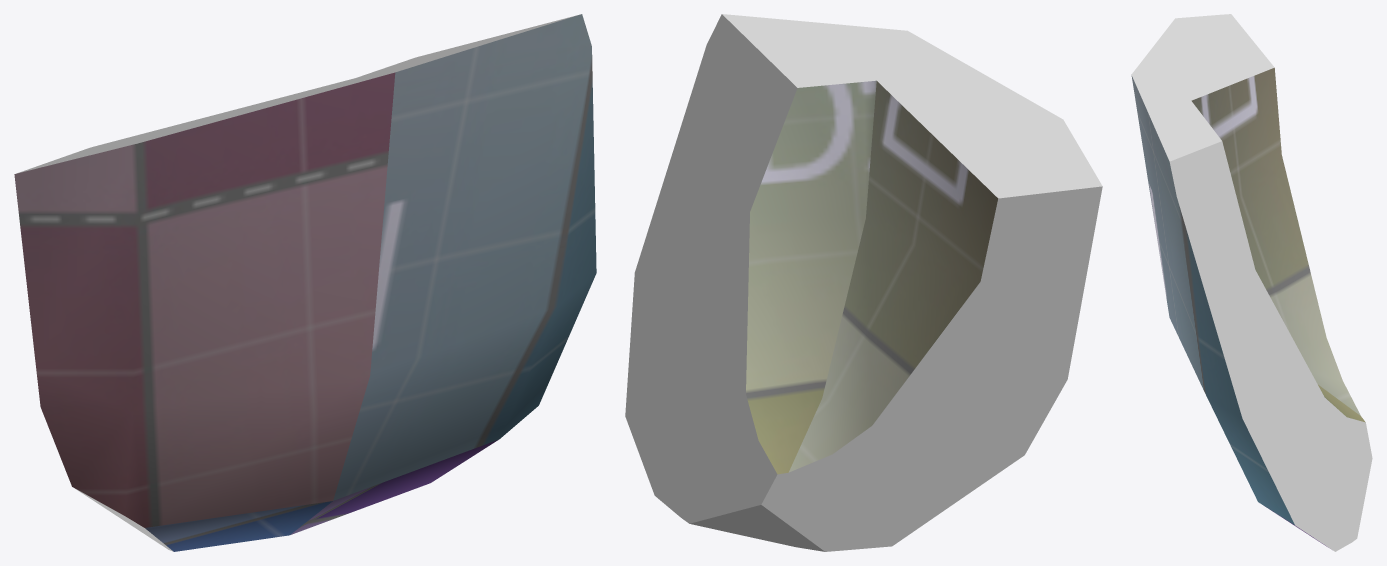
The model's file is MediumUrn_SHAT_cell_005.fbx.
The picture shows the model from 3 angles, left to right: view 1: azimuth 30°, elevation 25°; view 2: azimuth 150°, elevation 25°; view 3: azimuth 270°, elevation 25°; orthographic projection. The views are drawn at different scales.
Parts seen in each view (by area): view 1: MediumUrn_SHAT_cell_005; view 2: MediumUrn_SHAT_cell_005; view 3: MediumUrn_SHAT_cell_005.
Boxes of the visible parts, box(x1,y1,x2,y2) form: MediumUrn_SHAT_cell_005: box(14, 14, 596, 551); MediumUrn_SHAT_cell_005: box(625, 14, 1102, 551); MediumUrn_SHAT_cell_005: box(1131, 14, 1372, 551).
Size of the model in its own units: 0.4785 by 0.4299 by 0.2244.
2 materials, 1 textured.
